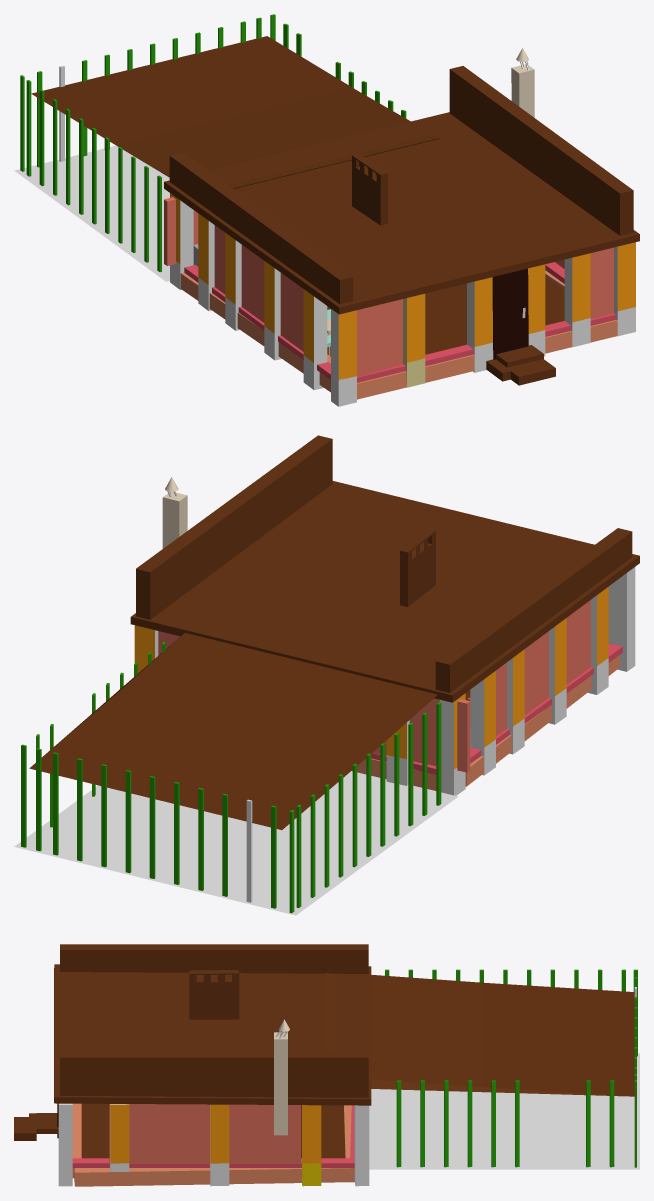
File: level.fbx
The picture shows the model from 3 angles, top to bottom: view 1: azimuth 30°, elevation 25°; view 2: azimuth 150°, elevation 25°; view 3: azimuth 270°, elevation 25°; orthographic projection. The views are drawn at different scales.
Parts seen in each view (by area): view 1: Cube.087, Cube.036, Cube.072, Plane.006, Cube.079, Cube.090, Cube.088, Cube.089, Cube.010, Cube.014, Cube.012, Cube.005 (+21 smaller); view 2: Cube.087, Cube.036, Plane.006, Cube.072, Cube.079, Cube.090, Cube.093, Cube.012, Cube.073, Cube.021, Cube.019, Cube.016 (+12 smaller); view 3: Cube.036, Cube.087, Plane.006, Cube.072, Cube.079, Cube.091, Cube.034, Cube.088, Cube.073, Cube.028, Cube.027, Cube.074 (+16 smaller).
Boxes of the visible parts, x1,y1,x2,y2 form: Cube.087: [164, 112, 639, 314]; Cube.036: [31, 36, 439, 188]; Cube.072: [449, 66, 633, 235]; Plane.006: [14, 145, 169, 281]; Cube.079: [169, 152, 353, 304]; Cube.090: [214, 225, 303, 351]; Cube.088: [327, 278, 564, 356]; Cube.089: [357, 299, 402, 376]; Cube.010: [492, 268, 528, 359]; Cube.014: [357, 319, 617, 399]; Cube.012: [331, 309, 356, 406]; Cube.005: [564, 253, 590, 347]; Cube.087: [130, 481, 639, 702]; Cube.036: [29, 609, 437, 829]; Plane.006: [14, 771, 458, 915]; Cube.072: [136, 435, 332, 619]; Cube.079: [435, 528, 632, 692]; Cube.090: [496, 600, 590, 736]; Cube.093: [373, 698, 470, 772]; Cube.012: [608, 567, 635, 671]; Cube.073: [400, 529, 435, 606]; Cube.021: [470, 671, 495, 775]; Cube.019: [439, 693, 465, 795]; Cube.016: [587, 587, 608, 694]; Cube.036: [325, 973, 634, 1096]; Cube.087: [54, 964, 371, 1105]; Plane.006: [369, 1053, 639, 1169]; Cube.072: [60, 1051, 368, 1097]; Cube.079: [60, 944, 368, 973]; Cube.091: [109, 1104, 300, 1163]; Cube.034: [74, 1168, 354, 1186]; Cube.088: [81, 1103, 345, 1158]; Cube.073: [189, 970, 239, 1019]; Cube.028: [210, 1104, 229, 1186]; Cube.027: [302, 1105, 321, 1186]; Cube.074: [274, 1032, 287, 1135].
Size of what is drawn, in the model's own units: 14316 by 8194 by 26439.
